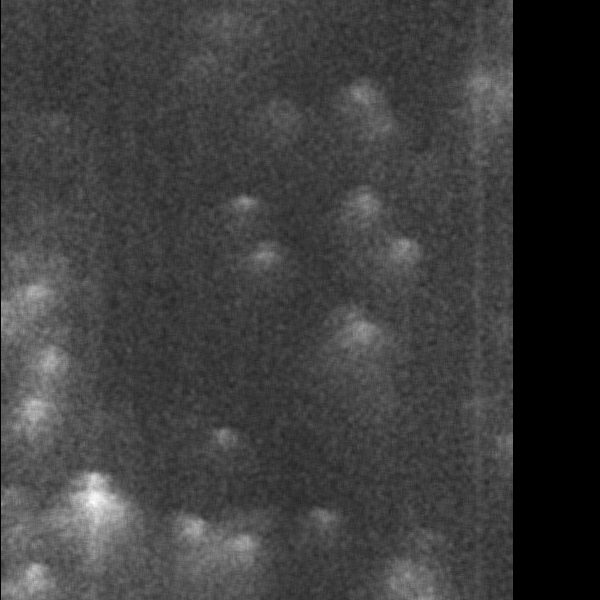spark: (57, 468, 127, 598), (150, 508, 195, 600), (331, 313, 390, 380), (5, 390, 65, 437), (332, 74, 386, 118), (386, 235, 416, 307), (306, 502, 348, 547), (207, 418, 234, 484), (347, 187, 379, 239), (229, 189, 262, 235), (242, 241, 283, 276)
